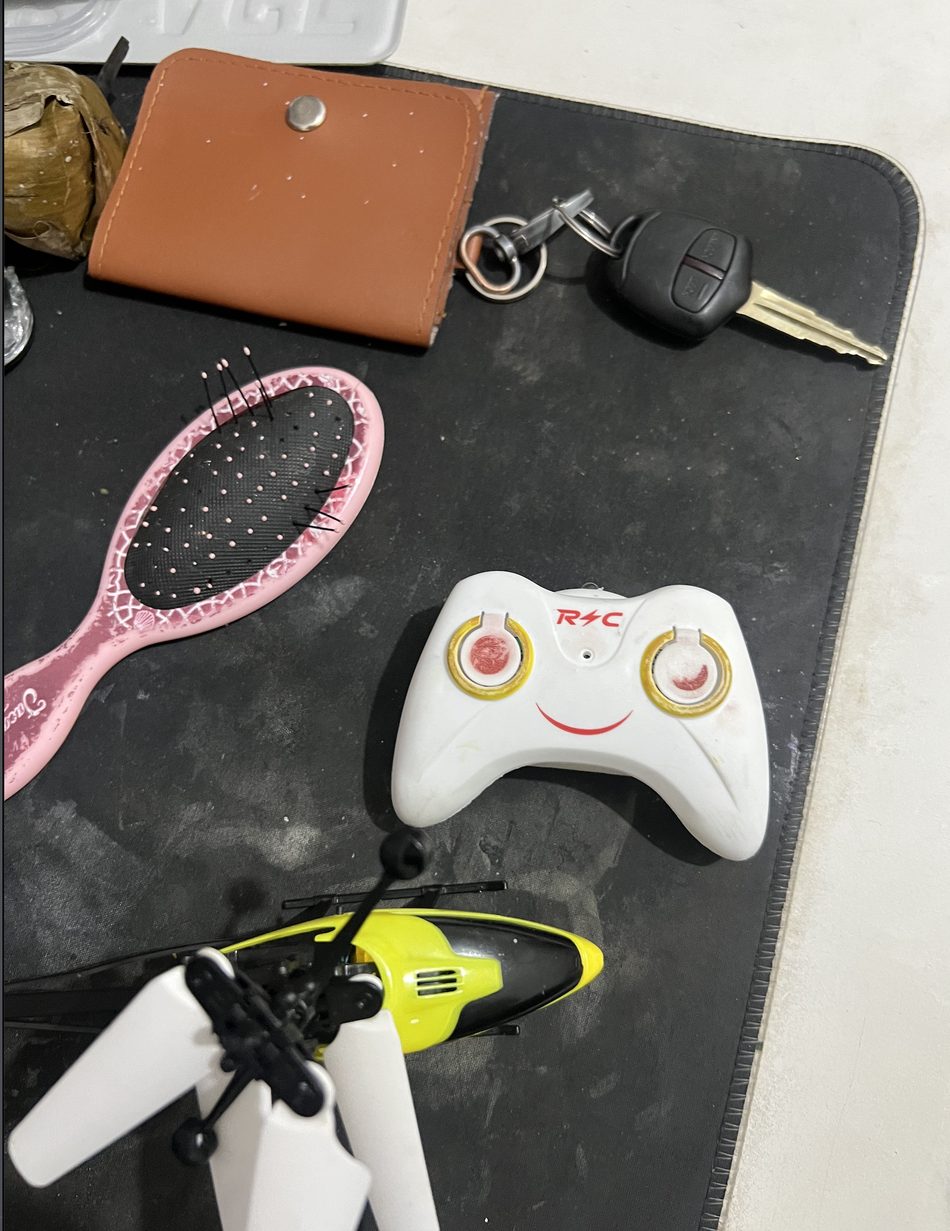gamepad: (361, 537, 825, 863)
helikopter: (1, 881, 646, 1190)
jungkat: (3, 306, 394, 817)
kunci: (518, 171, 909, 420)
